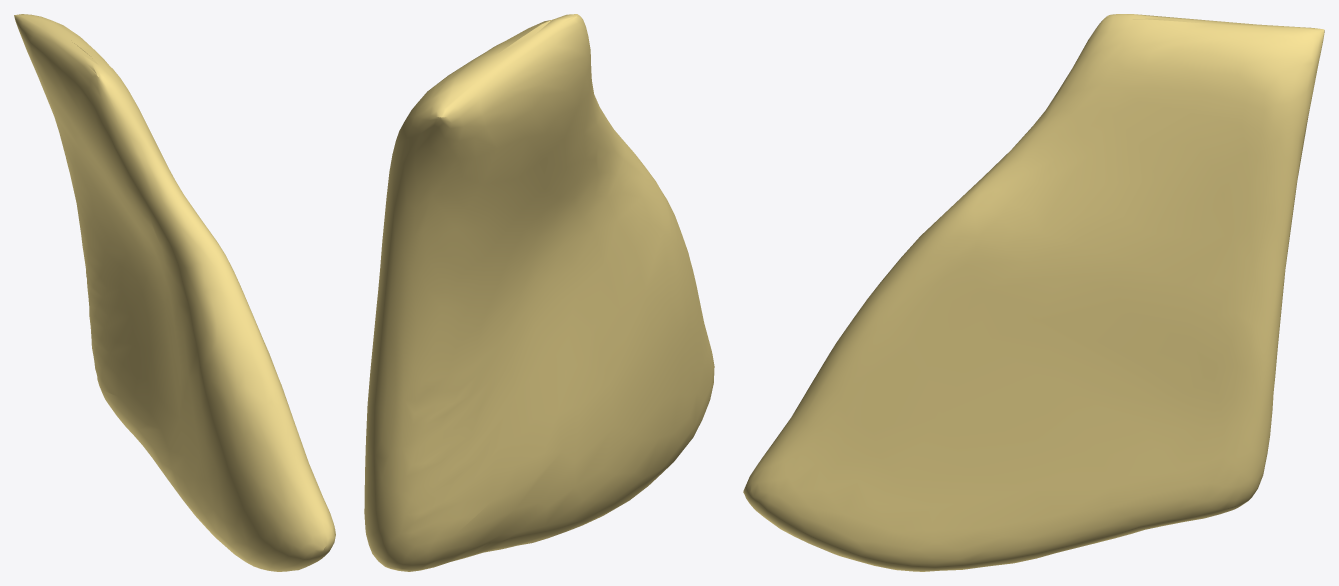
Rendered from fma62328-r_mm2973m.glb.
3 renders of one model, left to right at view 1: azimuth 30°, elevation 25°; view 2: azimuth 150°, elevation 25°; view 3: azimuth 270°, elevation 25°, orthographic. The views are drawn at different scales.
Visible parts, largest first — view 1: FMA62328-R_MM2973M; view 2: FMA62328-R_MM2973M; view 3: FMA62328-R_MM2973M.
Boxes of the visible parts, <box> form: FMA62328-R_MM2973M: <box>14,14,335,571</box>; FMA62328-R_MM2973M: <box>364,14,714,571</box>; FMA62328-R_MM2973M: <box>743,14,1324,571</box>.
Size of the model in its own units: 0.00153 by 0.00578 by 0.00596.
